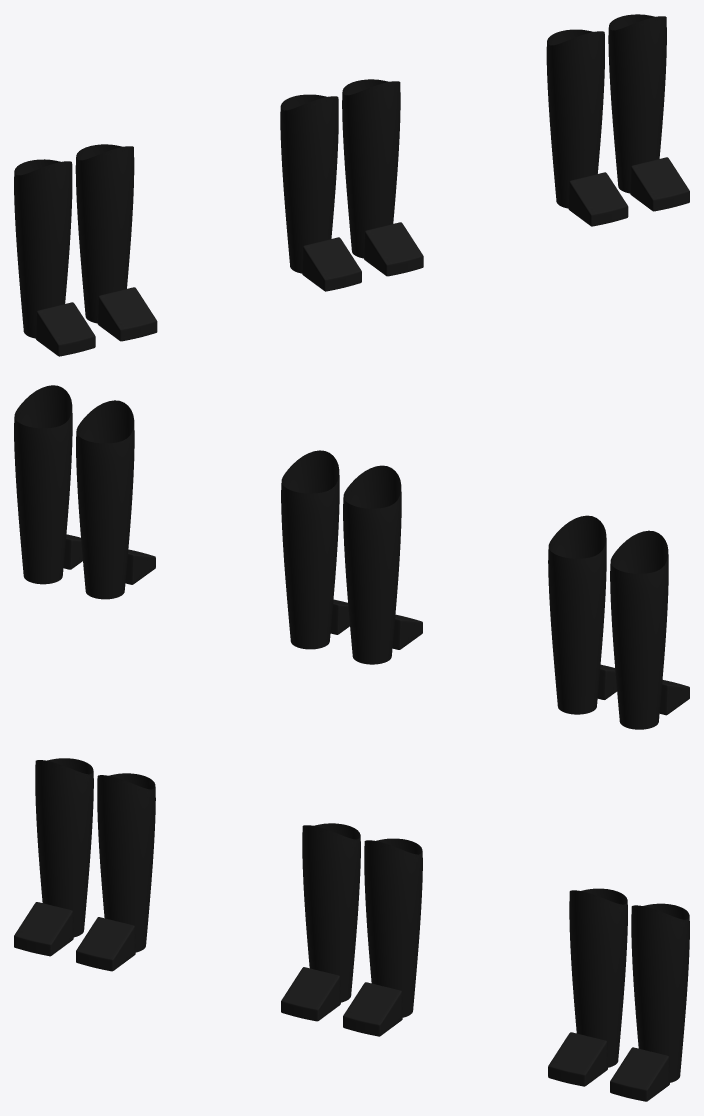
Rendered from piernas.obj.
The picture shows the model from 3 angles, top to bottom: view 1: azimuth 30°, elevation 25°; view 2: azimuth 150°, elevation 25°; view 3: azimuth 330°, elevation 25°; orthographic projection.
Parts seen in each view (by area): view 1: Nutcraker001, Nutcraker, Nutcraker002; view 2: Nutcraker, Nutcraker002, Nutcraker001; view 3: Nutcraker, Nutcraker002, Nutcraker001.
Boxes of the visible parts, x1,y1,x2,y2 form: Nutcraker001: (14,144,157,356); Nutcraker: (280,79,423,291); Nutcraker002: (546,14,689,226); Nutcraker: (281,450,422,664); Nutcraker002: (14,385,155,599); Nutcraker001: (548,515,689,729); Nutcraker: (281,823,422,1036); Nutcraker002: (548,888,689,1101); Nutcraker001: (14,758,155,971).
Bounding box in the file's own units: 18.17 × 4.82 × 2.36.
Materials: 1 (1 with a texture image).
